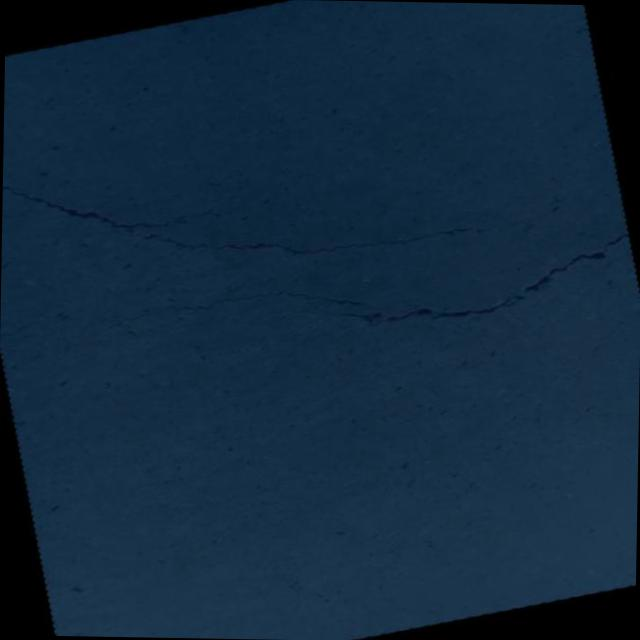crack: (0, 55, 564, 344), (330, 227, 640, 347), (53, 259, 370, 370), (0, 299, 115, 348), (316, 262, 347, 302), (227, 273, 280, 295), (288, 266, 309, 276)
